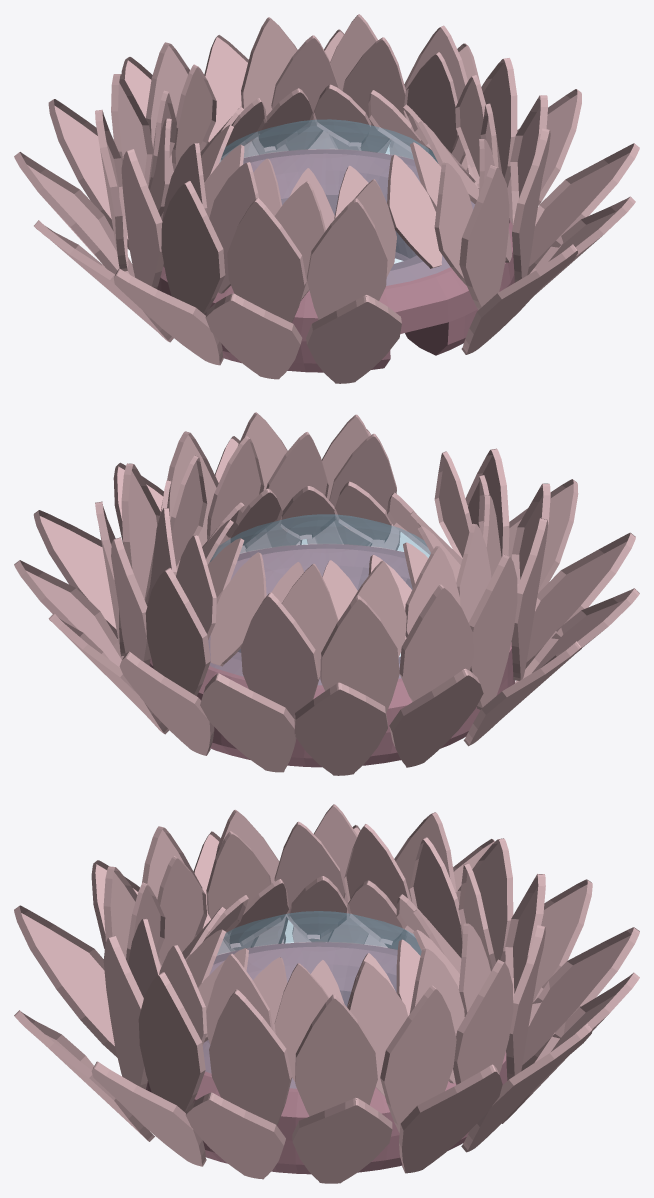
Rendered from galería_versión1.glb.
The picture shows the model from 3 angles, top to bottom: view 1: azimuth 30°, elevation 25°; view 2: azimuth 150°, elevation 25°; view 3: azimuth 270°, elevation 25°; orthographic projection. The views are drawn at different scales.
Visible parts, largest first — view 1: Torus.002; view 2: Torus.002; view 3: Torus.002.
Boxes of the visible parts, x1=… form: Torus.002: x1=14, y1=14, x2=639, y2=383; Torus.002: x1=14, y1=412, x2=639, y2=775; Torus.002: x1=14, y1=804, x2=639, y2=1183.
Size of the model in its own units: 466 by 167 by 444.
